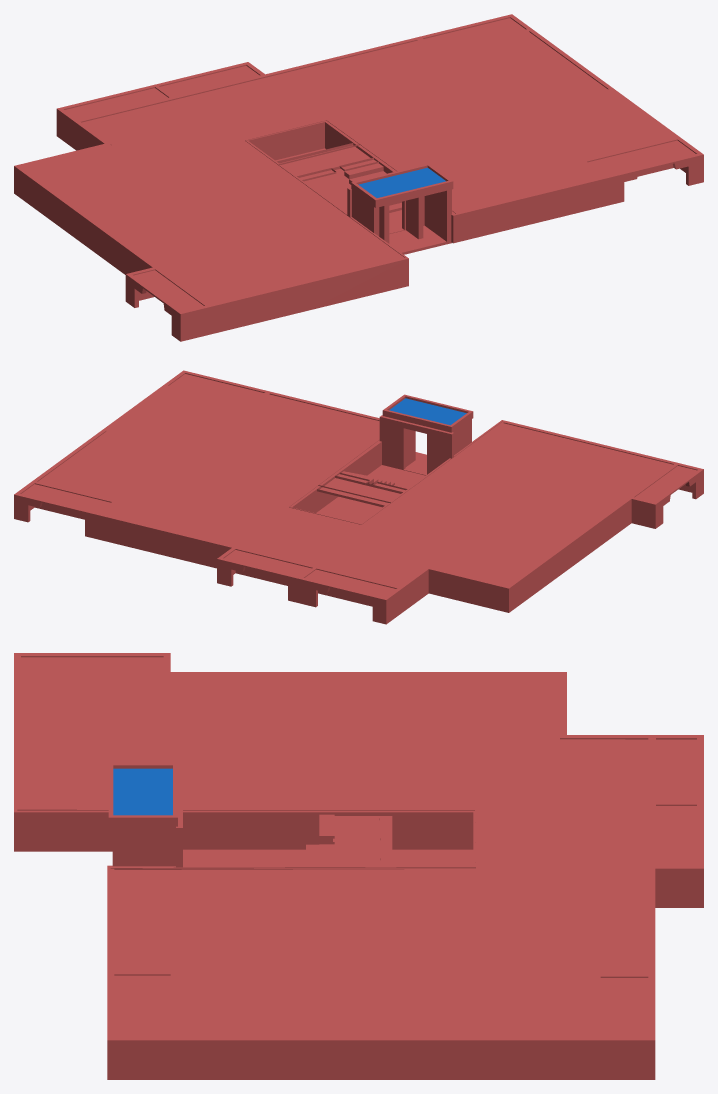
Rendered from SM_house_section_25.fbx.
3 renders of one model, top to bottom at view 1: azimuth 30°, elevation 25°; view 2: azimuth 150°, elevation 25°; view 3: azimuth 270°, elevation 25°, orthographic. The views are drawn at different scales.
Parts seen in each view (by area): view 1: Boole; view 2: Boole; view 3: Boole.
Part boxes in pixels (<box>): Boole: <box>14,14,703,341</box>; Boole: <box>14,370,703,624</box>; Boole: <box>14,653,703,1079</box>.
Bounding box in the file's own units: 2635 × 285 × 1984.
